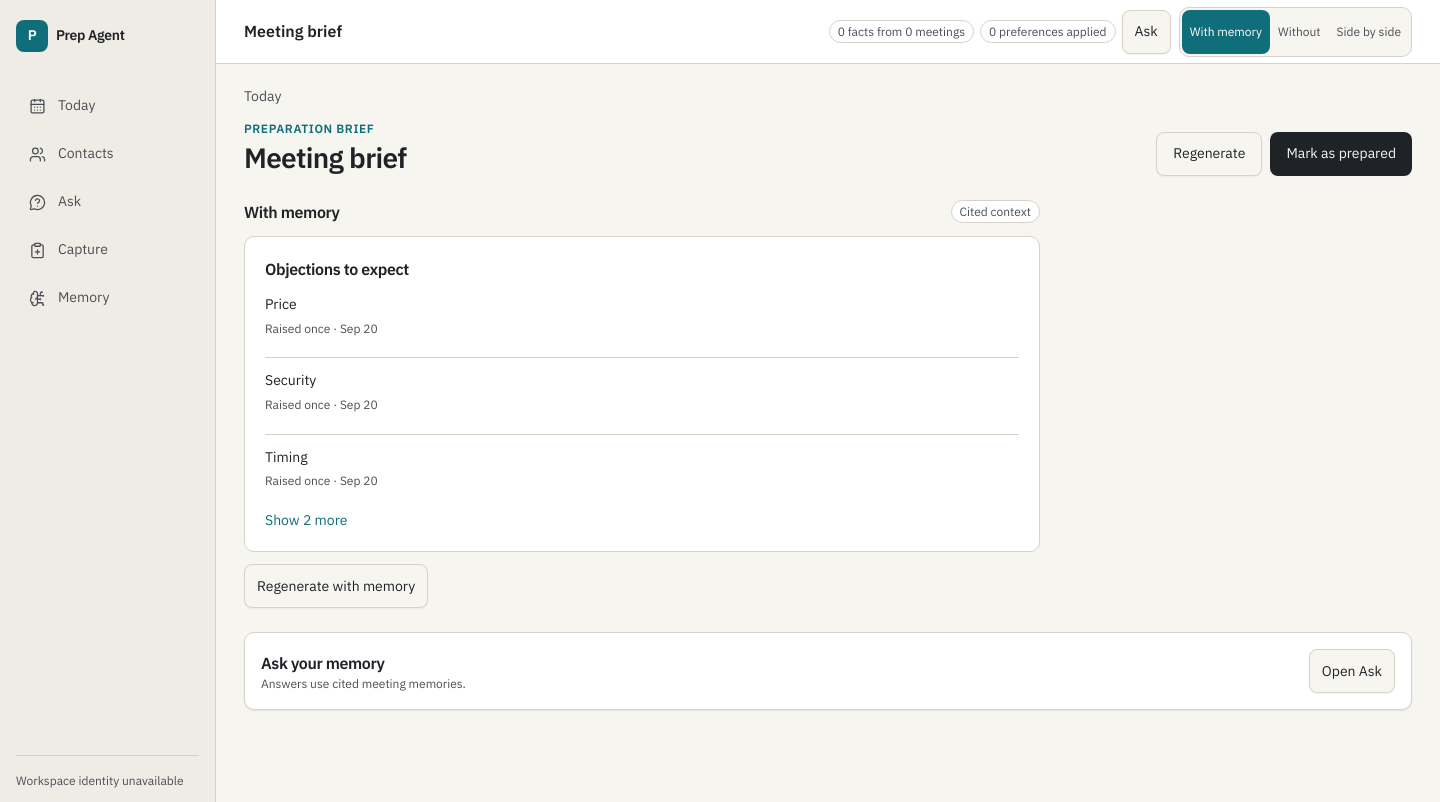
Brief page › keeps ranked objections to three until expanded
Expected: the text "Price" is shown, x1=265 y1=295 x2=297 y2=313
Expected: the text "Legal" is not shown
Click the button "Show 2 more" at (306, 521), box x1=265 y1=510 x2=347 y2=531
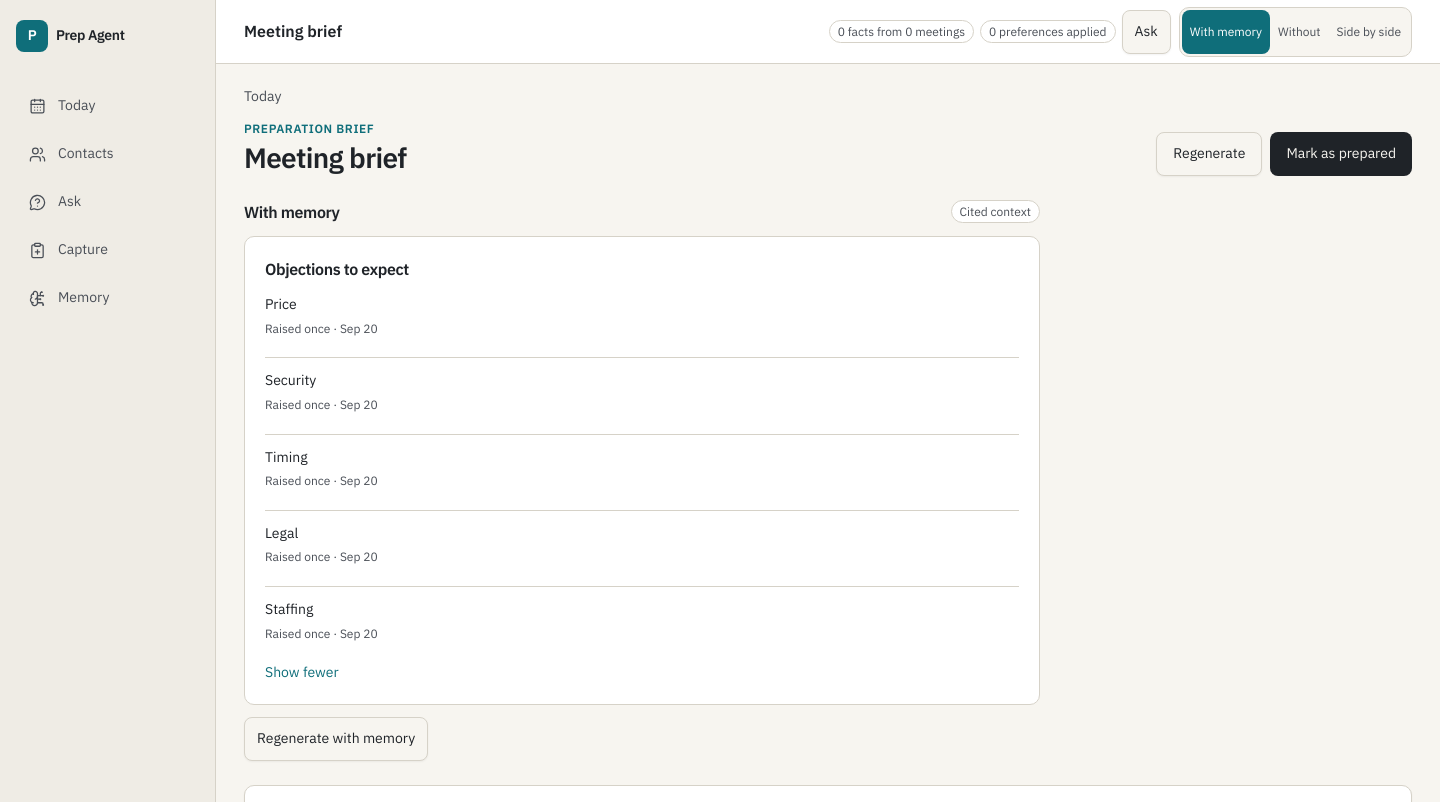
Expected: the text "Legal" is shown, x1=265 y1=524 x2=298 y2=542
Expected: the text "Staffing" is shown, x1=265 y1=600 x2=313 y2=618
